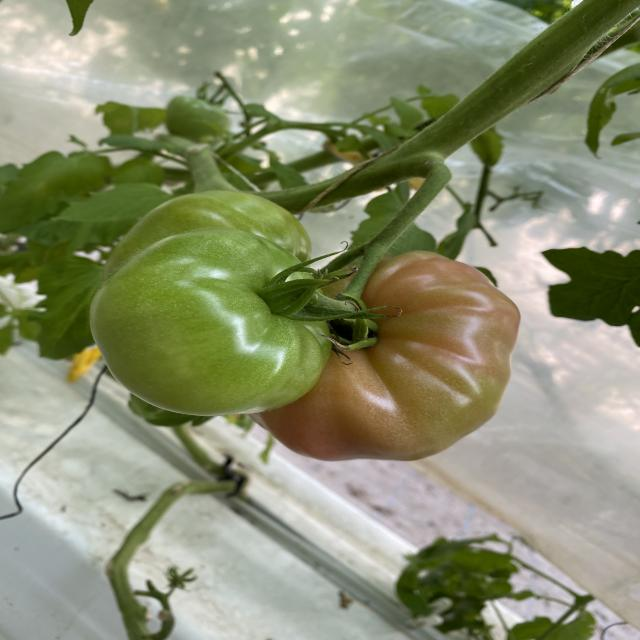sari: (349, 240, 510, 471)
yesil: (91, 159, 322, 414)
